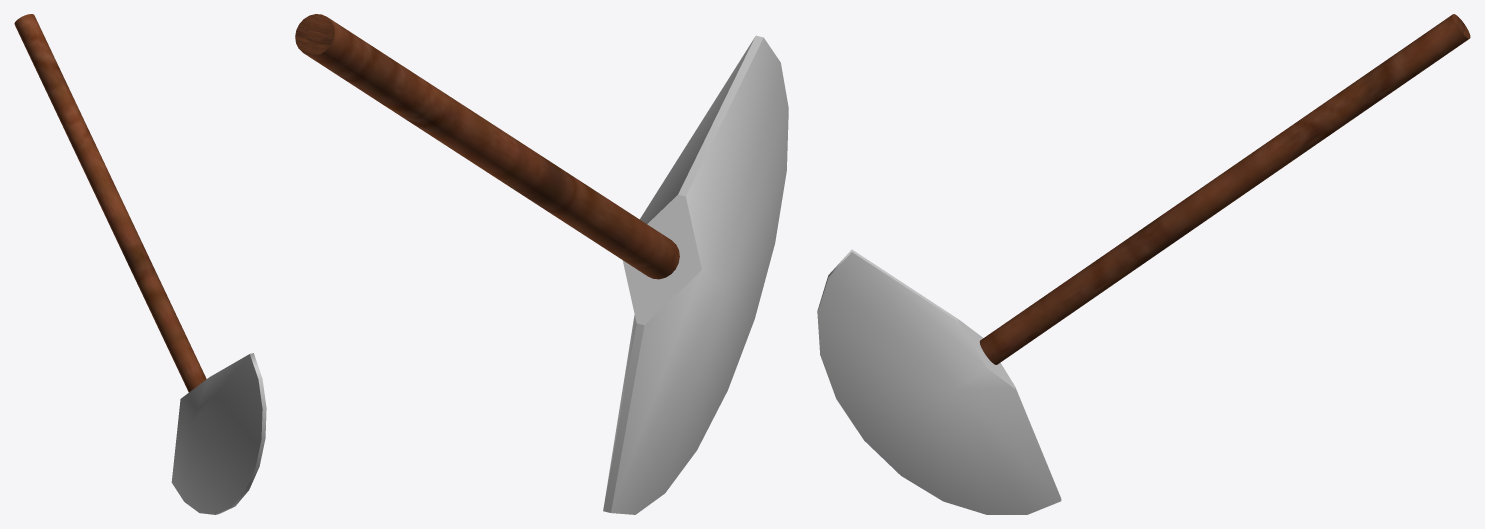
Rendered from Axe.fbx.
3 views of the same model, side by side, from view 1: azimuth 30°, elevation 25°; view 2: azimuth 150°, elevation 25°; view 3: azimuth 270°, elevation 25° (orthographic). The views are drawn at different scales.
Parts seen in each view (by area): view 1: pCylinder3; view 2: pCylinder3; view 3: pCylinder3.
Boxes of the visible parts, x1=… form: pCylinder3: x1=14, y1=14, x2=266, y2=514; pCylinder3: x1=295, y1=14, x2=788, y2=514; pCylinder3: x1=817, y1=14, x2=1470, y2=514.
Size of the model in its own units: 2.17 by 18.49 by 21.98.
